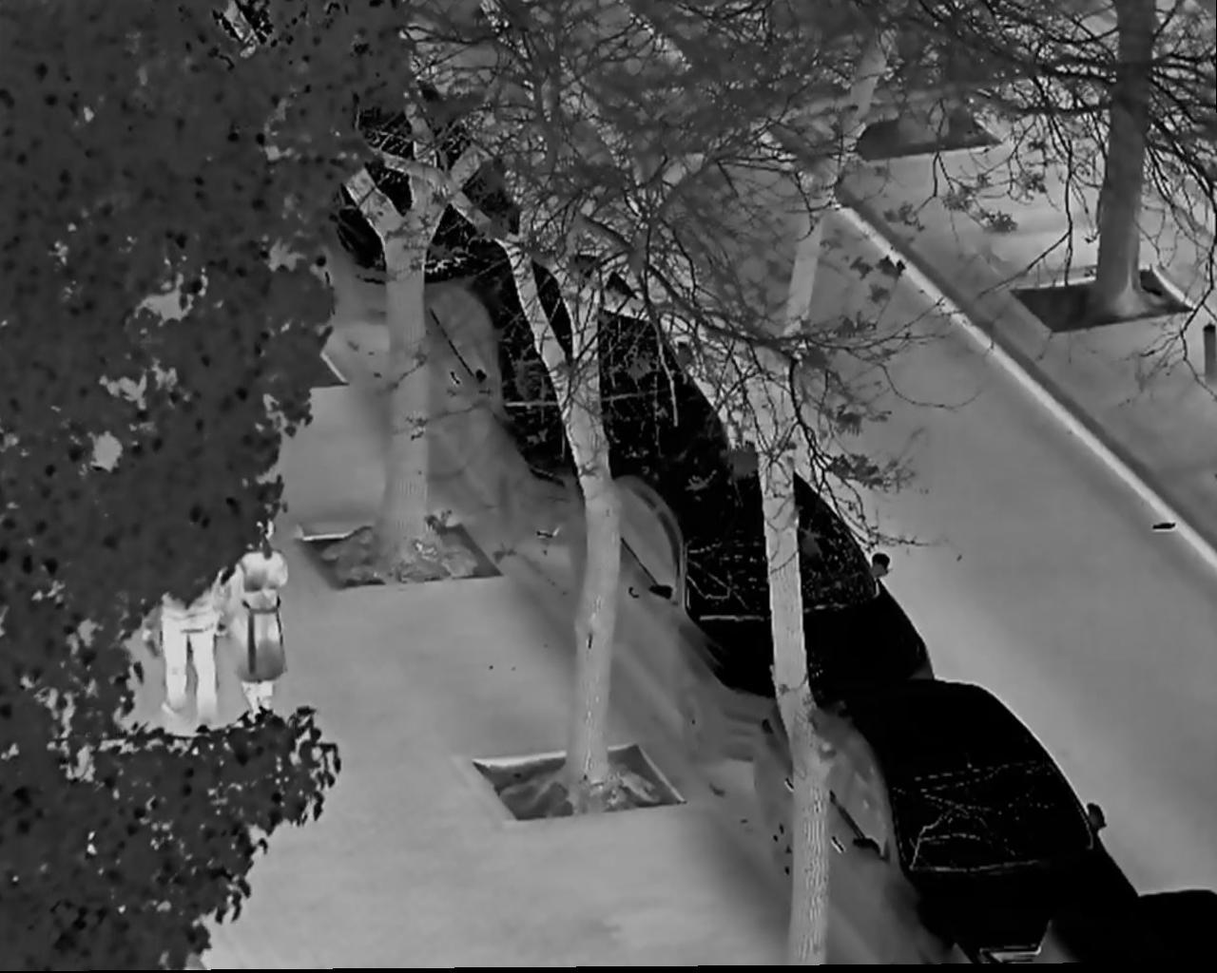person: (135, 486, 224, 733), (220, 512, 290, 725)
